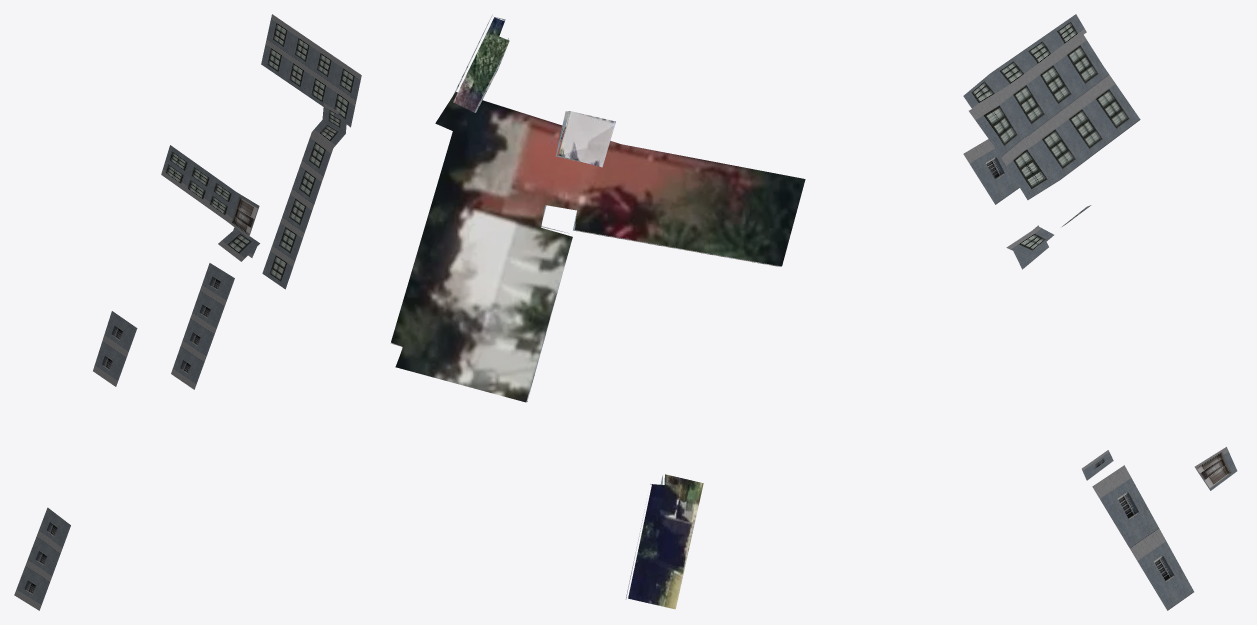
The model's file is tile_LOD4_r15_c11.glb.
The picture shows the model from 3 angles, left to right: view 1: azimuth 30°, elevation 25°; view 2: azimuth 150°, elevation 25°; view 3: azimuth 270°, elevation 25°; orthographic projection. The views are drawn at different scales.
Bounding box in the file's own units: 42.75 × 73.5 × 38.
8 materials, 8 textured.
